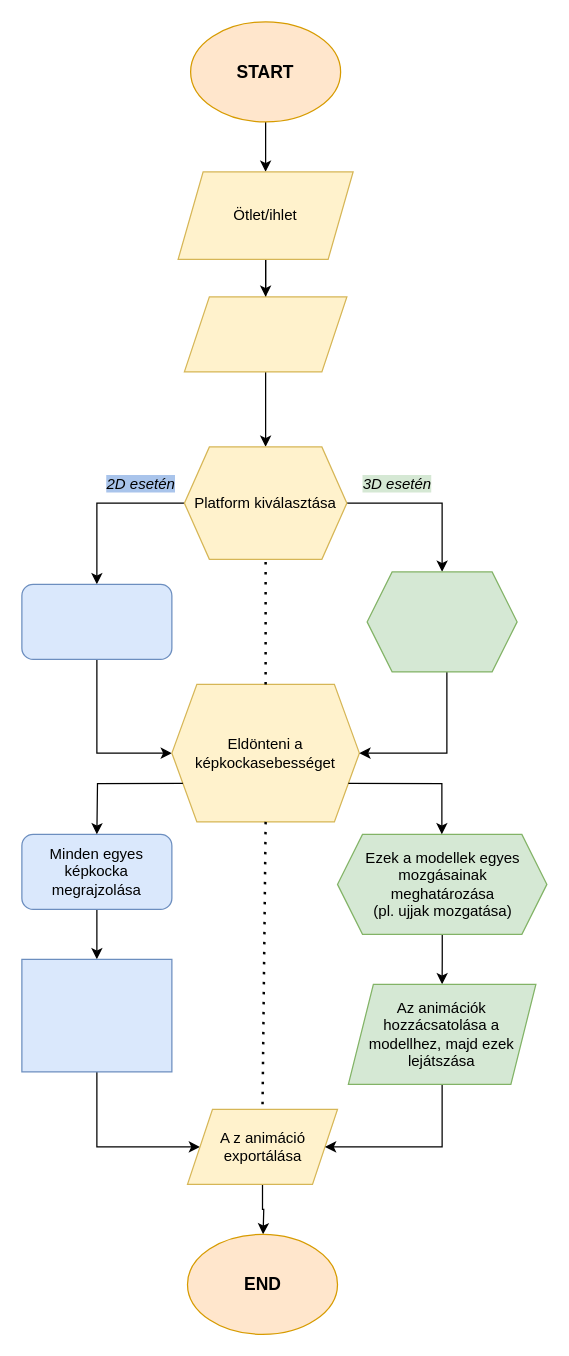
This 569x1356 diagram has some shape labels left out. The centre of each missing label's shape, as x and y in pixels:
"2D vagy 3D közötti döntés" belongs at (x=265, y=334).
"3D modellek készítése vagy beszerzése" belongs at (x=441, y=621).
"Ezek a rajzok importálása egy szoftverbe, ami lejátsza őket" belongs at (x=96, y=1015).
"Művészi stílus kiválasztása" belongs at (x=96, y=621).
